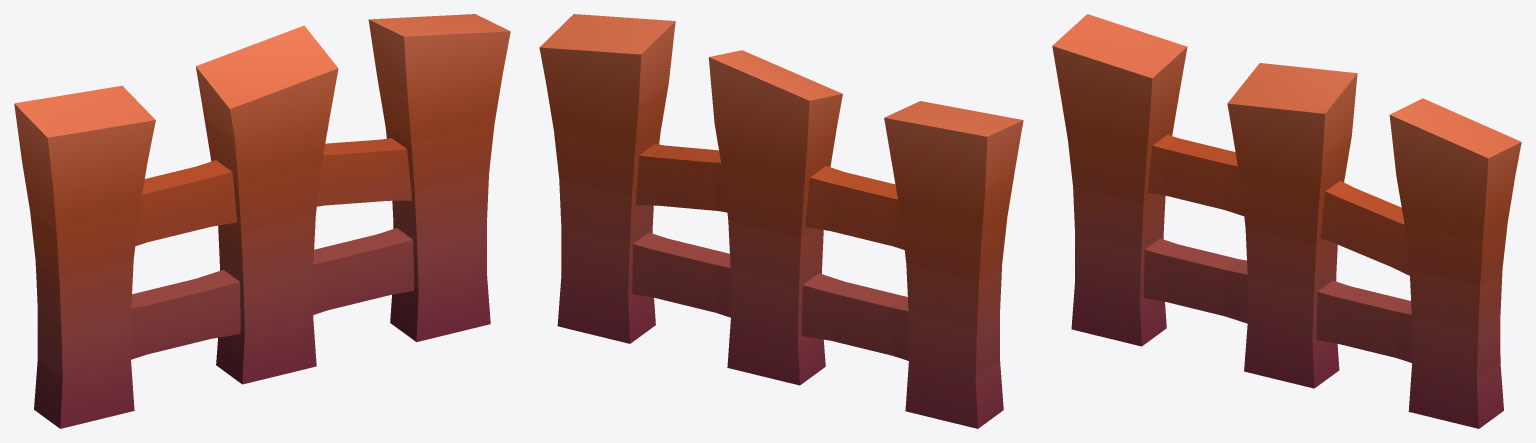
File: Fence_Variant_1.fbx
The picture shows the model from 3 angles, left to right: view 1: azimuth 30°, elevation 25°; view 2: azimuth 150°, elevation 25°; view 3: azimuth 330°, elevation 25°; orthographic projection. The views are drawn at different scales.
Parts seen in each view (by area): view 1: Fence; view 2: Fence; view 3: Fence.
Part boxes in pixels (left/top/right/bottom): Fence: left=14, top=14, right=510, bottom=428; Fence: left=539, top=14, right=1023, bottom=428; Fence: left=1052, top=14, right=1521, bottom=428.
Bounding box in the file's own units: 208 × 136 × 28.8.
